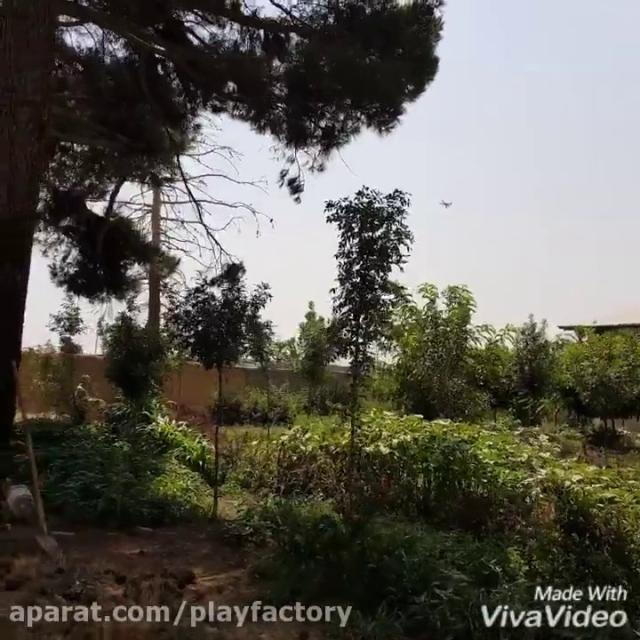drone: (436, 194, 455, 210)
